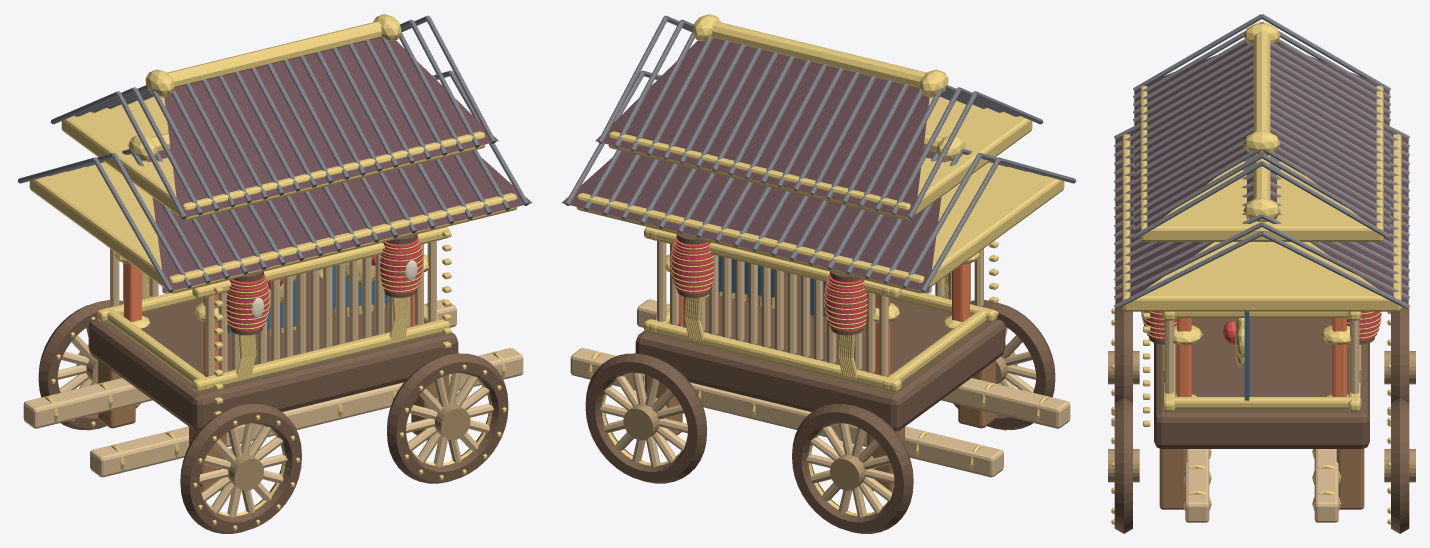
The model's file is matsuri_yatai_float.glb.
The picture shows the model from 3 angles, left to right: view 1: azimuth 30°, elevation 25°; view 2: azimuth 150°, elevation 25°; view 3: azimuth 270°, elevation 25°; orthographic projection. The views are drawn at different scales.
Visible parts, largest first — view 1: Festival shrine multi-tier roofing hipped roof.002, Heavy joined lacquered chassis, Festival shrine multi-tier roofing hipped roof, Festival shrine multi-tier roofing underedge, Festival shrine multi-tier roofing underedge.001, Side carrying beam, Carved float wheel outer tire.002, Carved float wheel outer tire, Festival shrine multi-tier roofing ridge.001, Side carrying beam.001, Carved balustrade, Carved float wheel outer tire.001 (+43 smaller); view 2: Festival shrine multi-tier roofing hipped roof.003, Heavy joined lacquered chassis, Festival shrine multi-tier roofing hipped roof.001, Festival shrine multi-tier roofing underedge, Festival shrine multi-tier roofing underedge.001, Carved float wheel outer tire.003, Carved float wheel outer tire.001, Side carrying beam.001, Side carrying beam, Festival shrine multi-tier roofing ridge.001, Carved balustrade.001, Carved float wheel outer tire (+44 smaller); view 3: Heavy joined lacquered chassis, Festival shrine multi-tier roofing underedge, Festival shrine multi-tier roofing underedge.001, Festival shrine multi-tier roofing hipped roof.002, Festival shrine multi-tier roofing hipped roof.003, Festival shrine multi-tier roofing hipped roof, Festival shrine multi-tier roofing hipped roof.001, Carved float wheel outer tire.002, Carved float wheel outer tire.003, Hand-carved transverse sill.001, Festival shrine multi-tier roofing decorative ridge finial.0 (×3), Festival shrine multi-tier roofing ridge.001 (+65 smaller).
Part boxes in pixels (left/top/right/bottom): Festival shrine multi-tier roofing hipped roof.002: left=164, top=37, right=498, bottom=218; Heavy joined lacquered chassis: left=88, top=272, right=458, bottom=431; Festival shrine multi-tier roofing hipped roof: left=148, top=149, right=531, bottom=292; Festival shrine multi-tier roofing underedge: left=29, top=162, right=517, bottom=293; Festival shrine multi-tier roofing underedge.001: left=61, top=96, right=485, bottom=220; Side carrying beam: left=90, top=348, right=523, bottom=477; Carved float wheel outer tire.002: left=387, top=353, right=508, bottom=483; Carved float wheel outer tire: left=180, top=404, right=301, bottom=533; Festival shrine multi-tier roofing ridge.001: left=167, top=21, right=381, bottom=87; Side carrying beam.001: left=23, top=299, right=456, bottom=428; Carved balustrade: left=192, top=319, right=449, bottom=392; Carved float wheel outer tire.001: left=38, top=300, right=140, bottom=430; Festival shrine multi-tier roofing hipped roof.003: left=595, top=37, right=929, bottom=218; Heavy joined lacquered chassis: left=635, top=272, right=1005, bottom=431; Festival shrine multi-tier roofing hipped roof.001: left=562, top=149, right=945, bottom=292; Festival shrine multi-tier roofing underedge: left=576, top=162, right=1064, bottom=293; Festival shrine multi-tier roofing underedge.001: left=608, top=96, right=1032, bottom=220; Carved float wheel outer tire.003: left=585, top=353, right=706, bottom=483; Carved float wheel outer tire.001: left=792, top=404, right=913, bottom=533; Side carrying beam.001: left=570, top=348, right=1003, bottom=477; Side carrying beam: left=637, top=299, right=1070, bottom=428; Festival shrine multi-tier roofing ridge.001: left=712, top=21, right=926, bottom=87; Carved balustrade.001: left=644, top=319, right=901, bottom=392; Carved float wheel outer tire: left=953, top=300, right=1055, bottom=430; Heavy joined lacquered chassis: left=1154, top=318, right=1369, bottom=448; Festival shrine multi-tier roofing underedge: left=1122, top=134, right=1401, bottom=311; Festival shrine multi-tier roofing underedge.001: left=1140, top=86, right=1383, bottom=241; Festival shrine multi-tier roofing hipped roof.002: left=1134, top=43, right=1253, bottom=239; Festival shrine multi-tier roofing hipped roof.003: left=1270, top=43, right=1389, bottom=239; Festival shrine multi-tier roofing hipped roof: left=1115, top=130, right=1253, bottom=309; Festival shrine multi-tier roofing hipped roof.001: left=1270, top=130, right=1408, bottom=309; Carved float wheel outer tire.002: left=1114, top=397, right=1132, bottom=533; Carved float wheel outer tire.003: left=1391, top=397, right=1409, bottom=533; Hand-carved transverse sill.001: left=1162, top=397, right=1361, bottom=408; Festival shrine multi-tier roofing decorative ridge finial.0 (×3): left=1243, top=23, right=1280, bottom=221; Festival shrine multi-tier roofing ridge.001: left=1253, top=31, right=1270, bottom=131.
Size of the model in its own units: 1.95 by 1.81 by 1.26.
